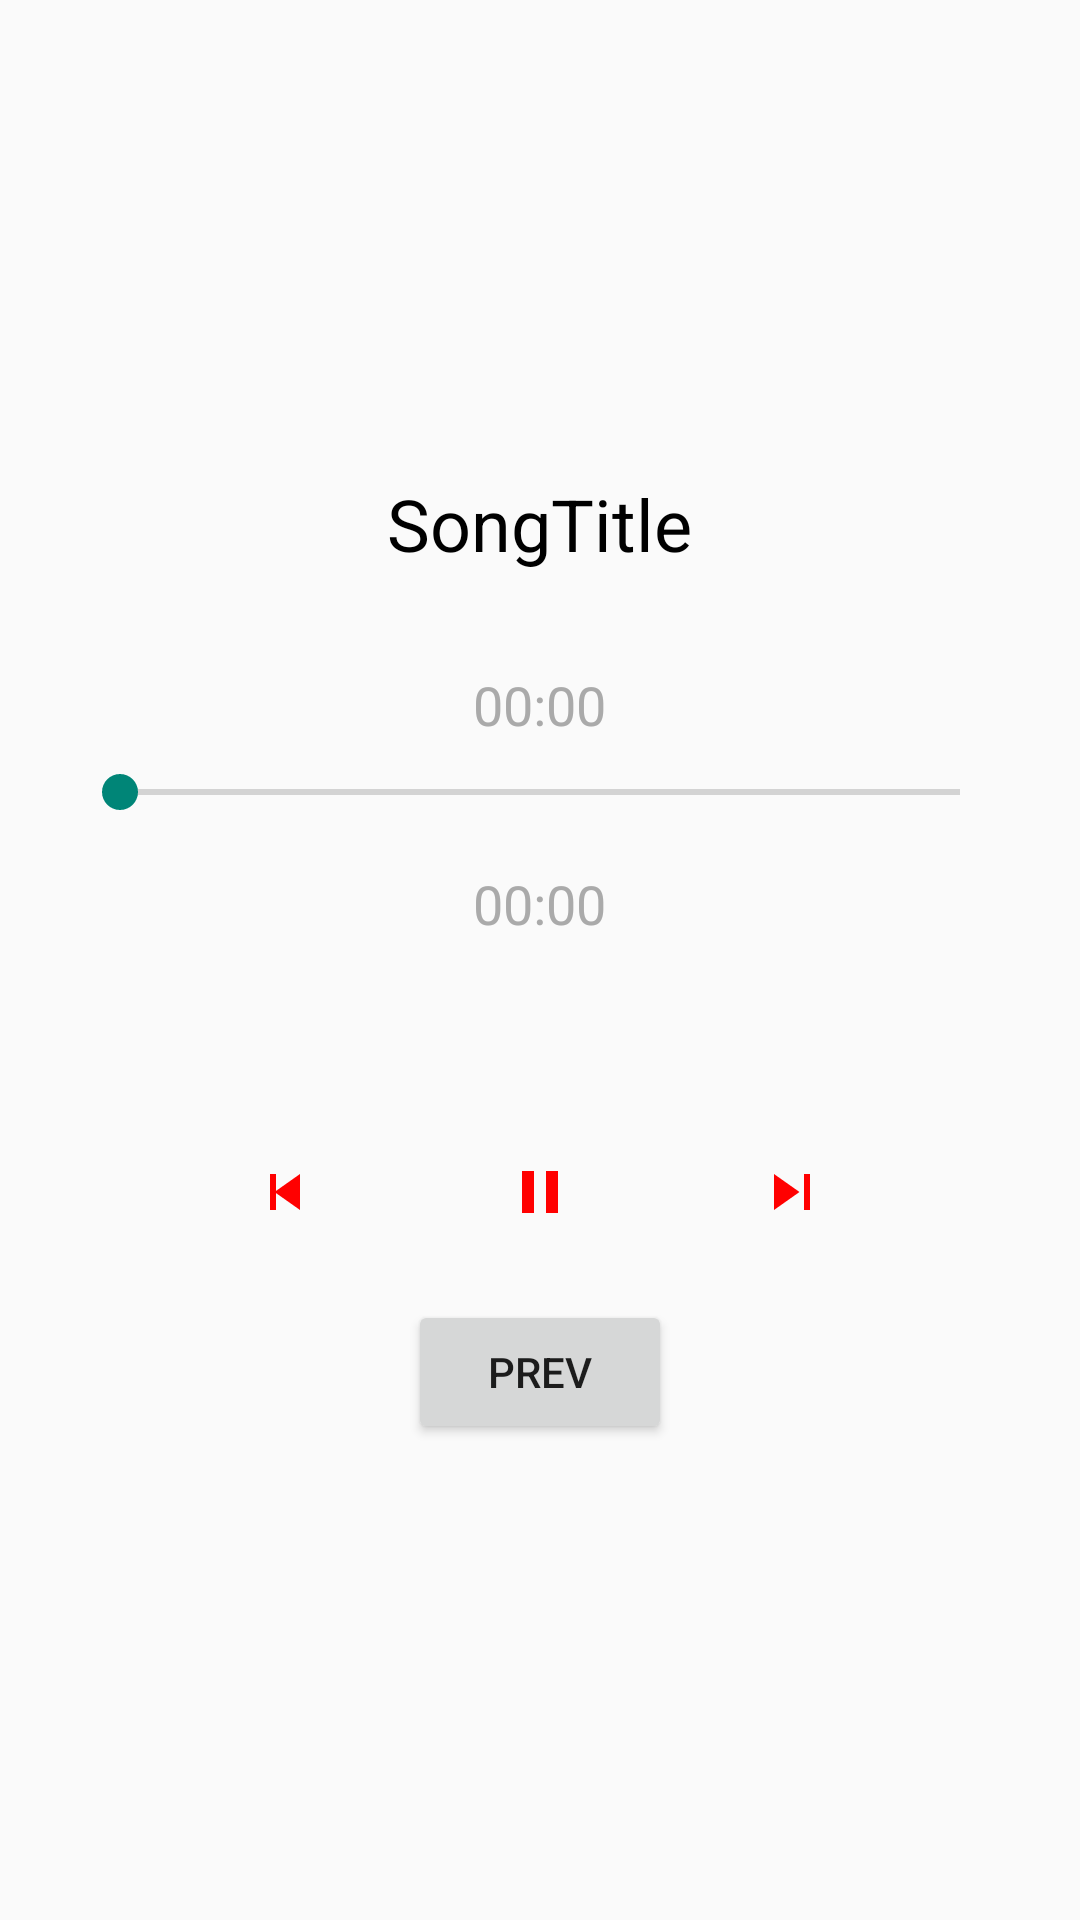

Named icons in this screenshot (1080x1920) and their bounding boxes, {"left": x1, "top": y1, "right": x2, "bottom": y2}:
Play/Pause: {"left": 522, "top": 1171, "right": 558, "bottom": 1213}
Skip Next: {"left": 774, "top": 1174, "right": 810, "bottom": 1210}
